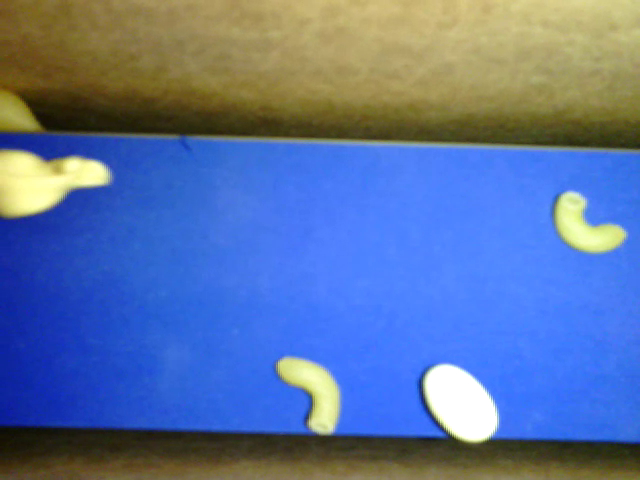elbow: (277, 354, 341, 437), (553, 190, 627, 254)
tortellini: (1, 148, 112, 219)
